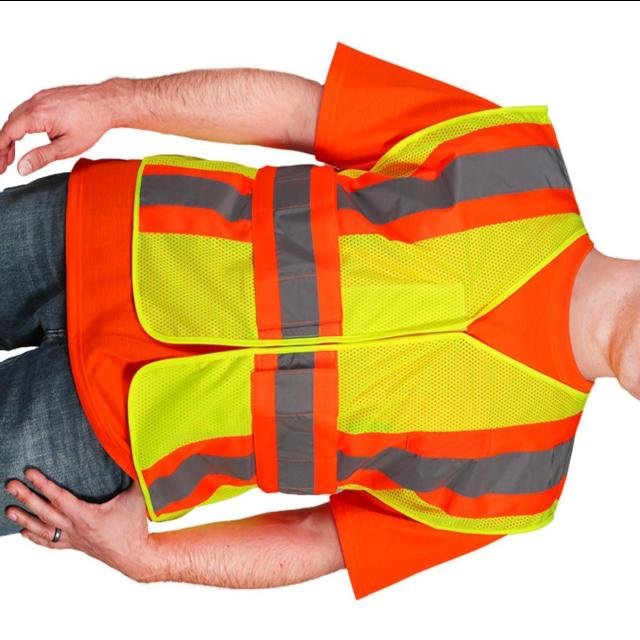jacket: (124, 94, 588, 540)
